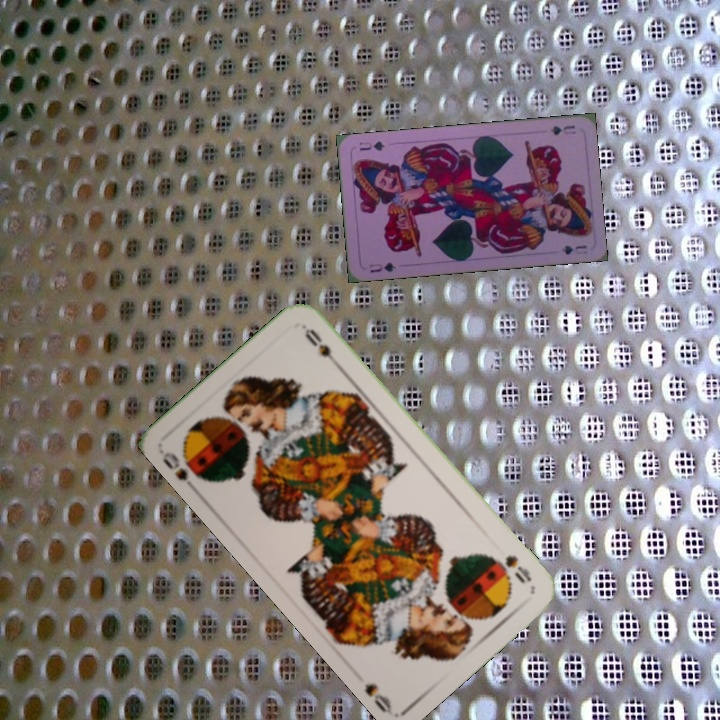GU: (366, 258, 398, 275), (546, 121, 578, 138)
SO: (158, 446, 212, 486), (493, 550, 534, 586)
